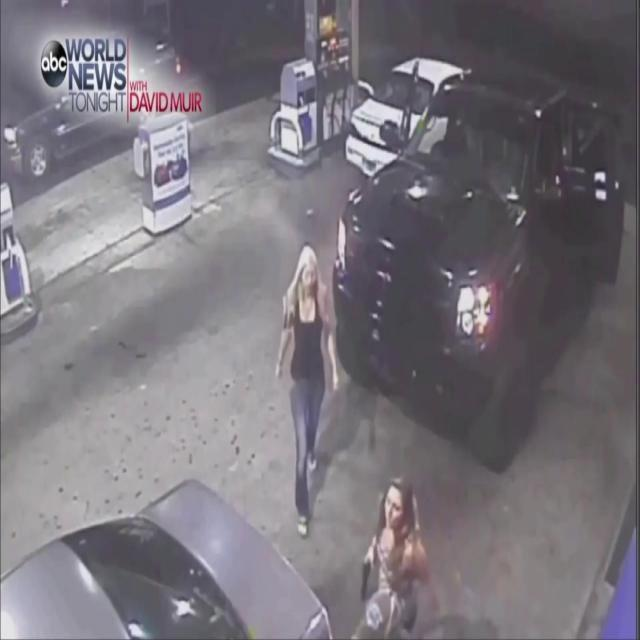weapon: (357, 558, 377, 602)
